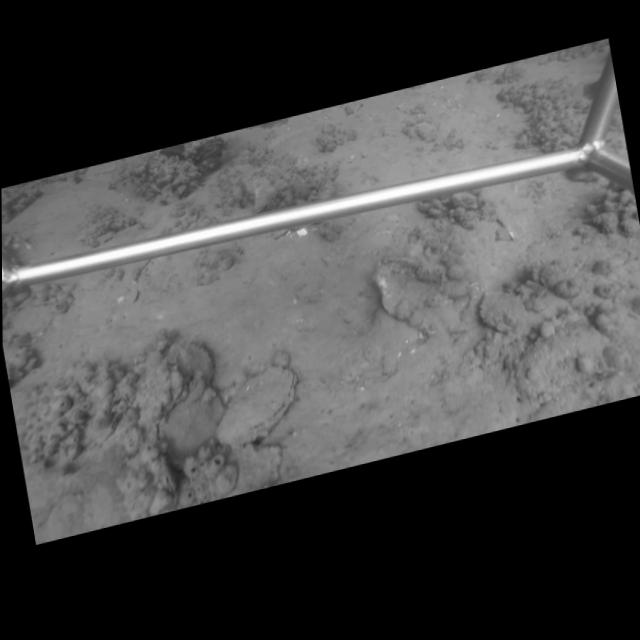Oyster-Closed: (214, 364, 299, 450), (96, 409, 127, 445), (311, 176, 336, 200)
Oyster-Indeterminate: (514, 314, 633, 404), (476, 281, 572, 336), (163, 379, 225, 459), (154, 335, 211, 421), (234, 440, 283, 489)
